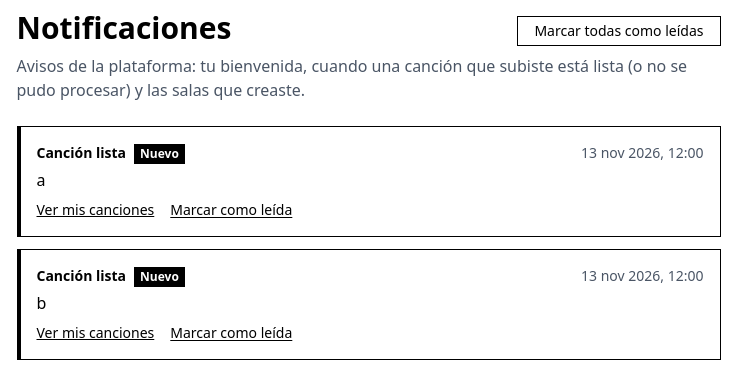
Test: Notifications › marcar todas manda el pedido sin ids
Click the button "Marcar todas como leídas": (619, 31) [517,16,720,46]
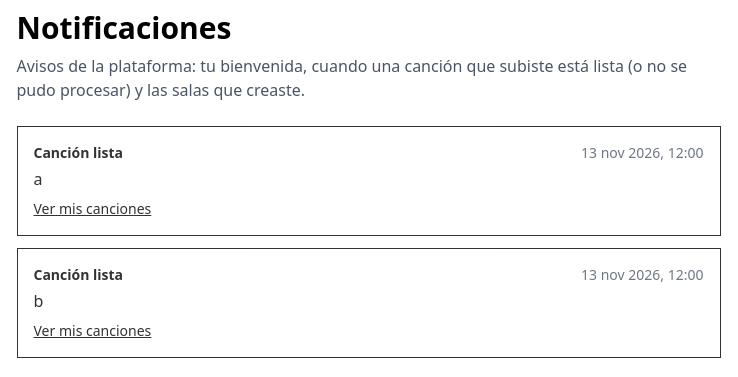
Expected: the text "Nuevo" is not shown
